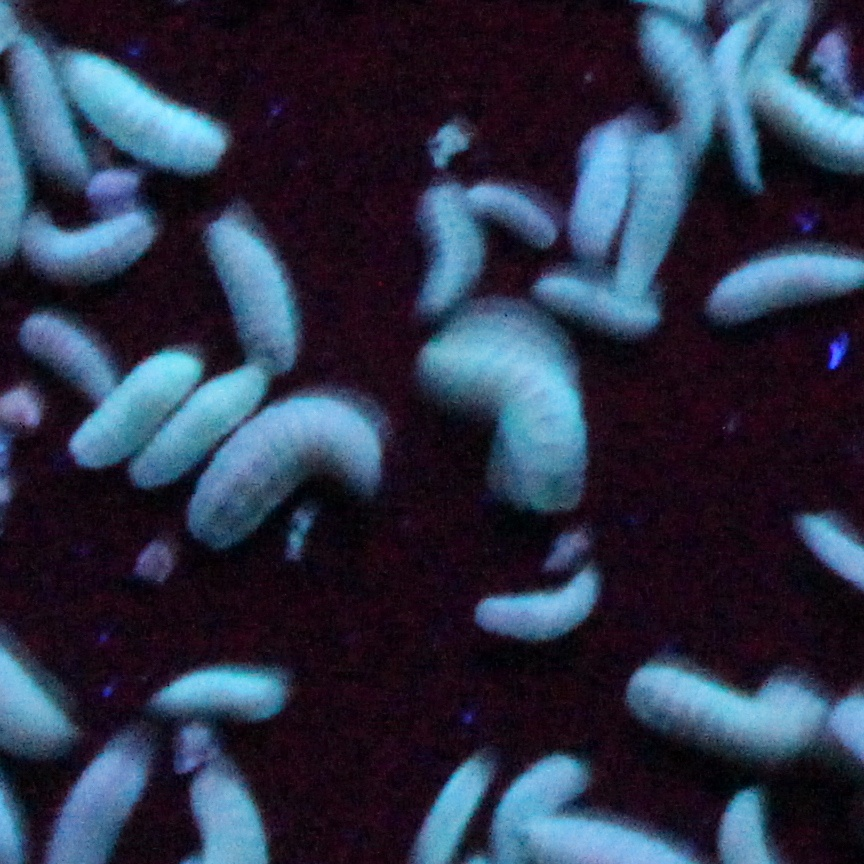larve: (186, 397, 380, 545), (424, 327, 586, 496), (64, 55, 224, 171), (131, 368, 265, 489), (625, 667, 803, 752), (68, 351, 199, 466), (5, 36, 88, 187), (207, 223, 293, 367), (638, 16, 710, 162), (628, 133, 684, 301), (21, 213, 154, 281), (712, 10, 761, 189), (476, 570, 596, 638), (419, 183, 478, 314), (572, 124, 629, 258), (22, 318, 111, 402), (153, 668, 286, 720), (535, 275, 654, 332), (466, 185, 558, 250), (759, 681, 830, 721)
